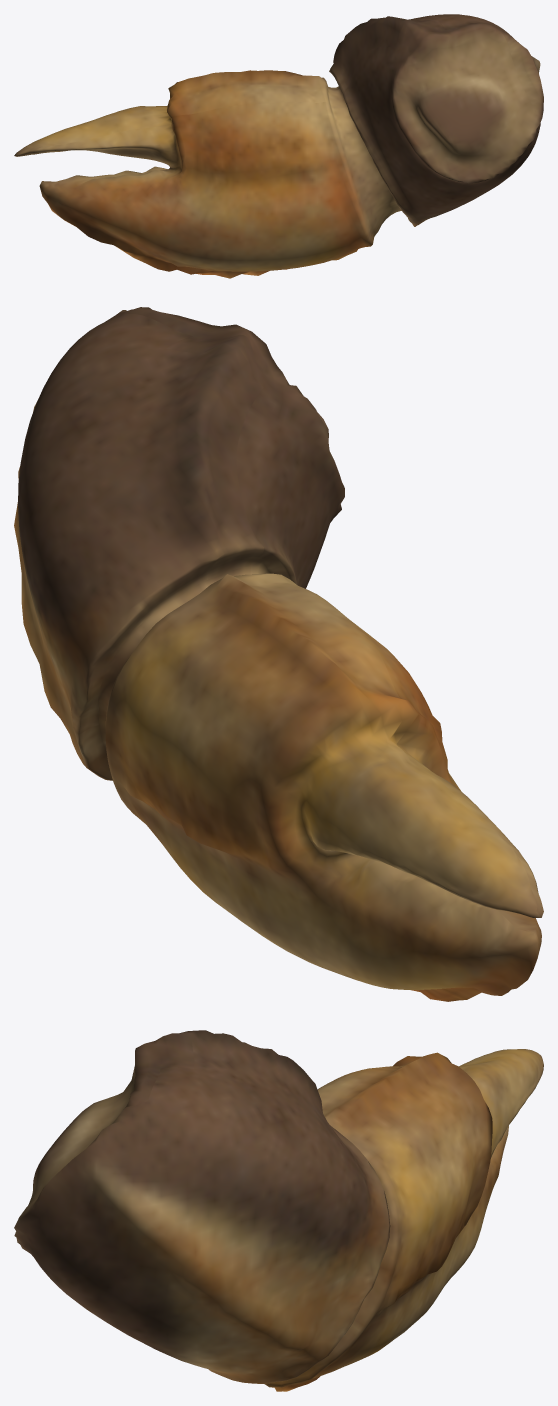
The model's file is pinzaizq.obj.
3 views of the same model, one above another, from view 1: azimuth 30°, elevation 25°; view 2: azimuth 150°, elevation 25°; view 3: azimuth 270°, elevation 25° (orthographic). The views are drawn at different scales.
Parts seen in each view (by area): view 1: Crab_Obj_crab_01; view 2: Crab_Obj_crab_01; view 3: Crab_Obj_crab_01.
Part boxes in pixels (x1=…): Crab_Obj_crab_01: x1=14, y1=14, x2=543, y2=278; Crab_Obj_crab_01: x1=14, y1=307, x2=543, y2=1001; Crab_Obj_crab_01: x1=14, y1=1030, x2=543, y2=1391.
Size of the model in its own units: 4.9 by 3.15 by 3.74.
Materials: 1 (1 with a texture image).
